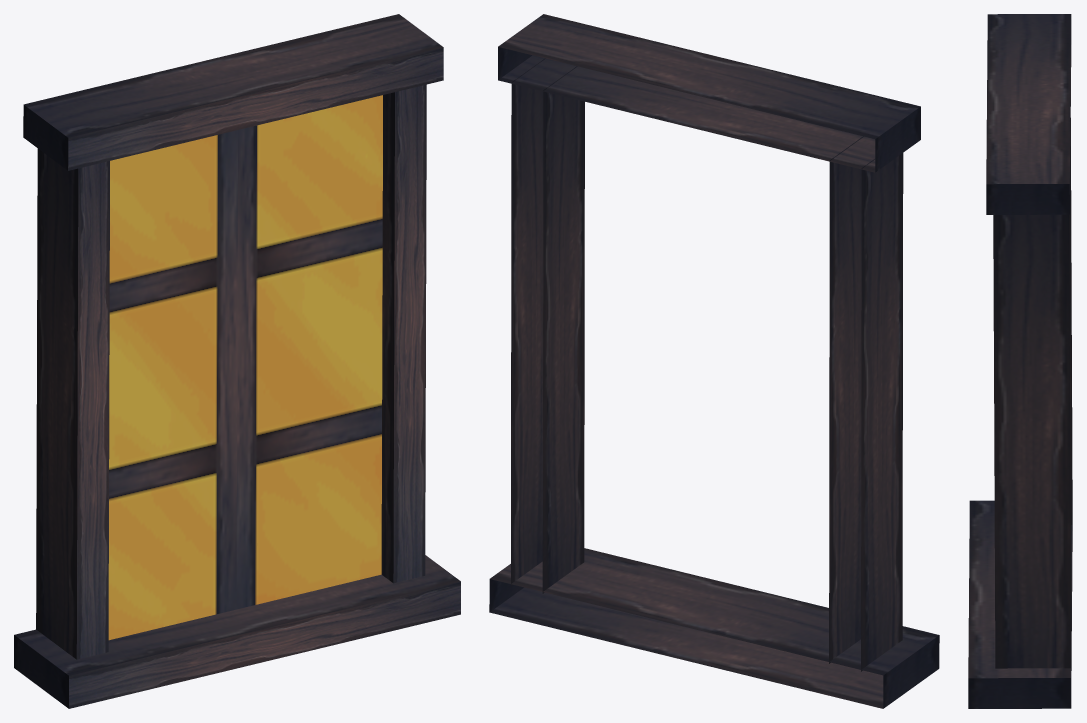
The model's file is Window_D.fbx.
3 renders of one model, left to right at view 1: azimuth 30°, elevation 25°; view 2: azimuth 150°, elevation 25°; view 3: azimuth 270°, elevation 25°, orthographic. The views are drawn at different scales.
Visible parts, largest first — view 1: Window_D; view 2: Window_D; view 3: Window_D.
Part boxes in pixels (<box>): Window_D: <box>14,14,460,708</box>; Window_D: <box>489,14,939,708</box>; Window_D: <box>968,14,1072,708</box>.
Size of the model in its own units: 30.97 by 42.55 by 7.71.
Materials: 1 (1 with a texture image).
